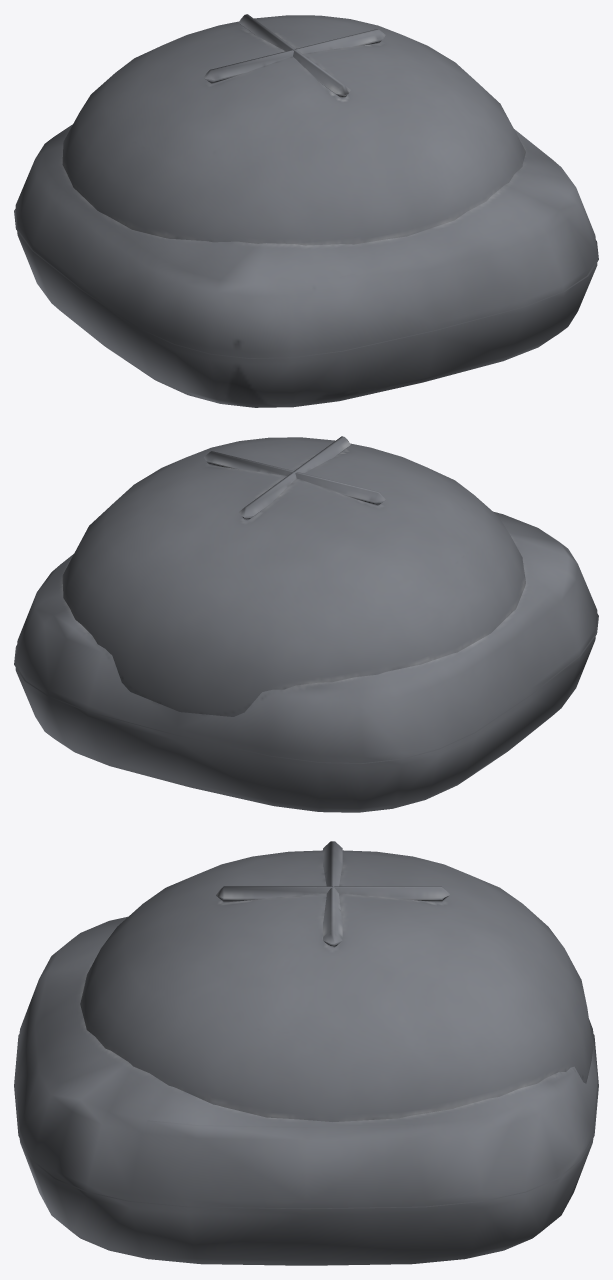
Rendered from MatonImp_Gorro.fbx.
3 renders of one model, top to bottom at view 1: azimuth 30°, elevation 25°; view 2: azimuth 150°, elevation 25°; view 3: azimuth 270°, elevation 25°, orthographic. The views are drawn at different scales.
Parts seen in each view (by area): view 1: MatonImp_Gorro; view 2: MatonImp_Gorro; view 3: MatonImp_Gorro.
Boxes of the visible parts, x1=… form: MatonImp_Gorro: x1=14, y1=14, x2=598, y2=407; MatonImp_Gorro: x1=14, y1=436, x2=598, y2=812; MatonImp_Gorro: x1=14, y1=841, x2=598, y2=1265.
Size of the model in its own units: 1.58 by 0.9552 by 1.58.
